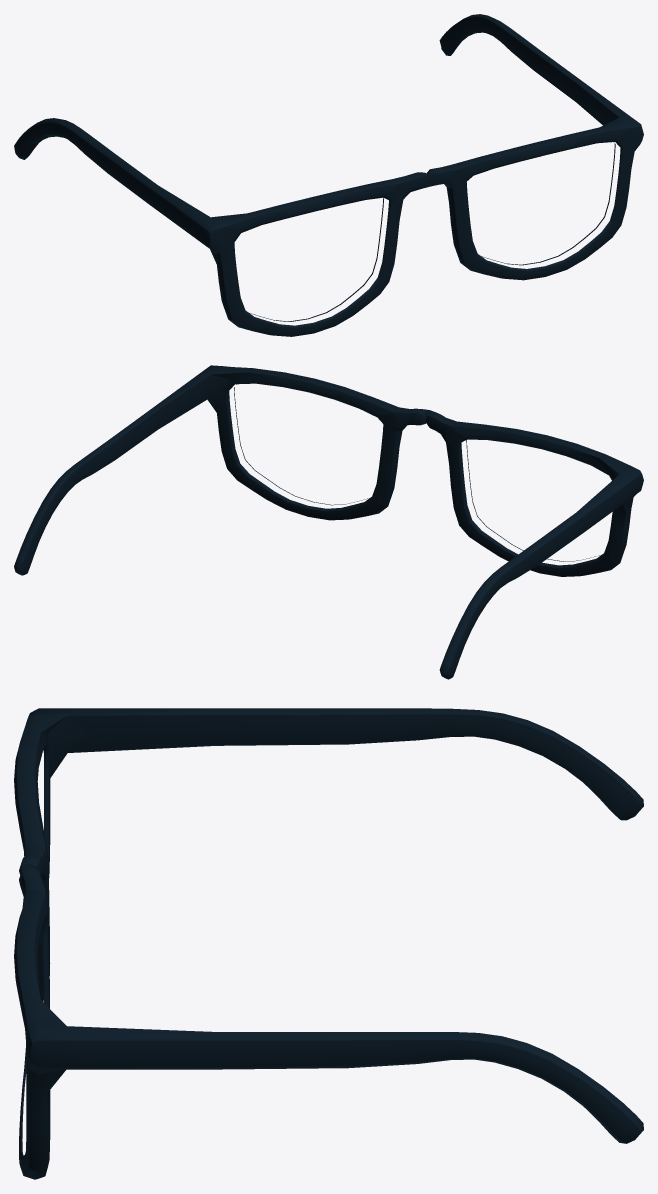
The model's file is glasses.glb.
3 views of the same model, one above another, from view 1: azimuth 30°, elevation 25°; view 2: azimuth 150°, elevation 25°; view 3: azimuth 270°, elevation 25° (orthographic). The views are drawn at different scales.
Visible parts, largest first — view 1: Sunglasses_01_Plane; view 2: Sunglasses_01_Plane; view 3: Sunglasses_01_Plane.
Boxes of the visible parts, bbox=[...] form: Sunglasses_01_Plane: bbox=[14, 14, 643, 336]; Sunglasses_01_Plane: bbox=[14, 365, 643, 679]; Sunglasses_01_Plane: bbox=[14, 708, 643, 1179].
Bounding box in the file's own units: 33.04 × 9.81 × 26.53.
